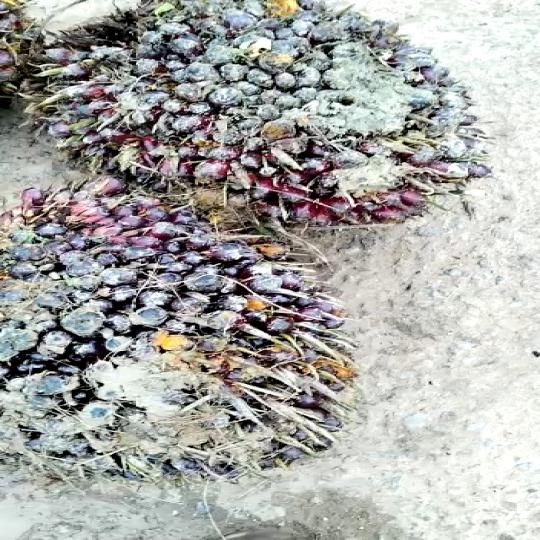kurang masak: (0, 172, 399, 486), (38, 2, 495, 233)
